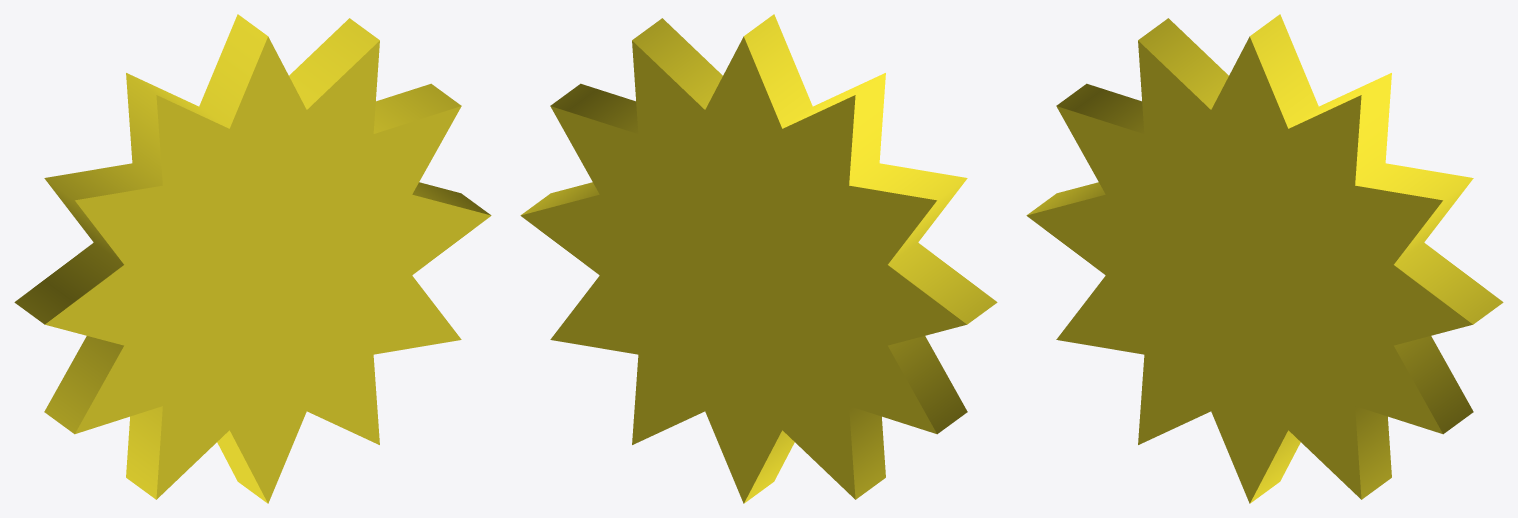
The model's file is sun.fbx.
The picture shows the model from 3 angles, left to right: view 1: azimuth 30°, elevation 25°; view 2: azimuth 150°, elevation 25°; view 3: azimuth 330°, elevation 25°; orthographic projection.
Visible parts, largest first — view 1: Curve.001; view 2: Curve.001; view 3: Curve.001.
Boxes of the visible parts, bbox=[...] form: Curve.001: bbox=[14, 14, 491, 503]; Curve.001: bbox=[520, 14, 997, 503]; Curve.001: bbox=[1026, 14, 1503, 503].
Bounding box in the file's own units: 9.31 × 9.31 × 1.1.
